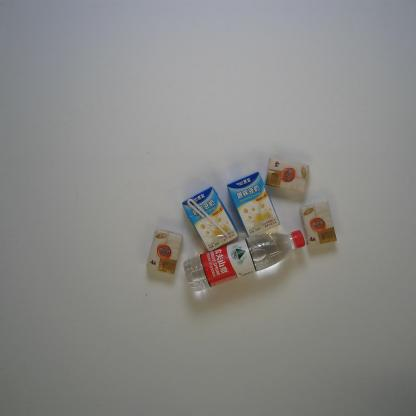Drink: (183, 229, 306, 292)
Milk: (181, 186, 238, 252), (226, 171, 280, 238)
Tissue: (300, 201, 337, 247), (264, 157, 310, 192), (146, 230, 182, 274)
